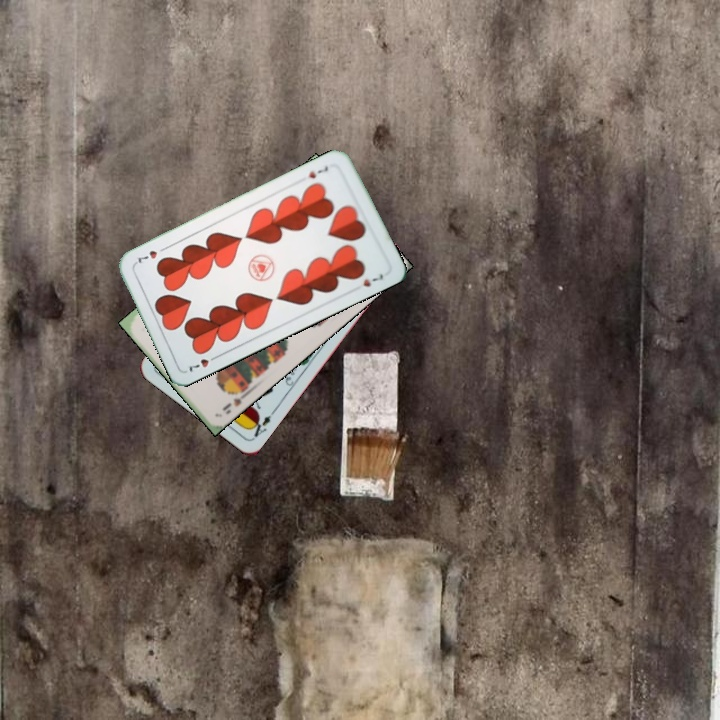EA: (246, 406, 278, 441)
H7: (183, 351, 221, 375), (305, 162, 331, 181)
S9: (218, 386, 252, 413)
